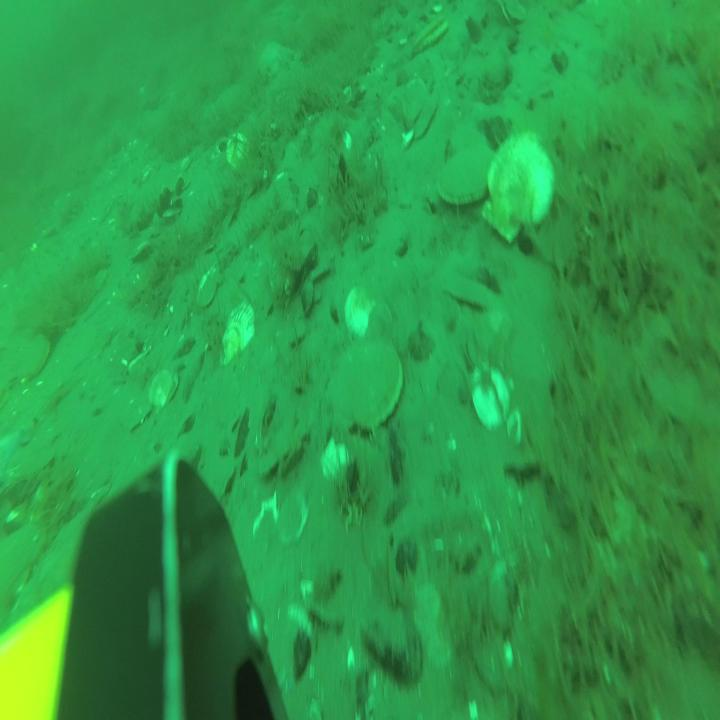scallop: (485, 134, 557, 242), (329, 336, 401, 432), (435, 144, 495, 203), (468, 359, 510, 426), (347, 287, 393, 345), (222, 298, 255, 364), (413, 11, 448, 53), (22, 333, 50, 380), (403, 75, 425, 130), (196, 260, 221, 308), (368, 306, 395, 350), (414, 92, 438, 140), (152, 368, 178, 409), (226, 132, 248, 172)
starfish: (0, 428, 31, 484), (259, 36, 291, 78)
